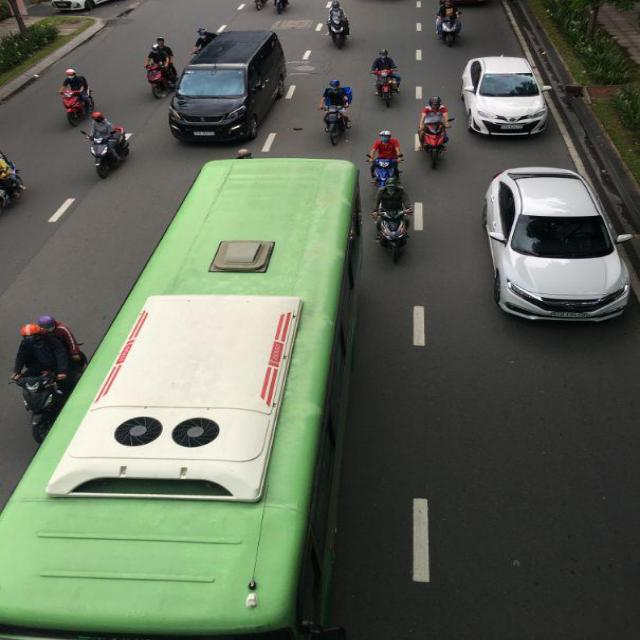bus: (5, 153, 364, 639)
car: (478, 167, 630, 321), (168, 32, 288, 145), (459, 56, 548, 139)
motorcycle: (11, 367, 67, 443), (87, 130, 125, 180), (375, 207, 412, 252), (321, 99, 354, 148), (420, 122, 450, 172), (60, 87, 94, 127), (146, 57, 177, 100), (373, 66, 402, 108), (327, 9, 351, 48), (276, 0, 288, 12)
